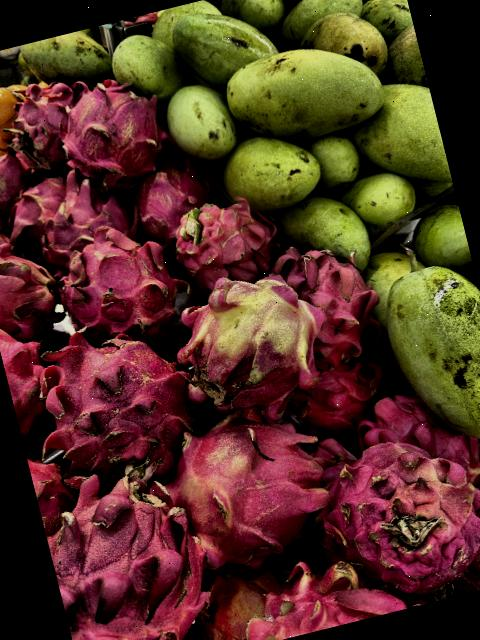buah-naga-belum-matang: (150, 400, 336, 568), (312, 419, 480, 604), (164, 258, 334, 428)
buah-naga-matang: (36, 459, 228, 640), (30, 312, 202, 480), (46, 216, 194, 348), (278, 230, 394, 365), (354, 374, 480, 498), (54, 66, 174, 194), (232, 549, 394, 640), (164, 187, 279, 289), (31, 165, 133, 258), (0, 72, 80, 176), (0, 232, 70, 344), (123, 153, 215, 232), (0, 316, 62, 429), (294, 356, 384, 432), (28, 447, 86, 527), (2, 172, 66, 244), (0, 143, 33, 215), (0, 210, 13, 257)
